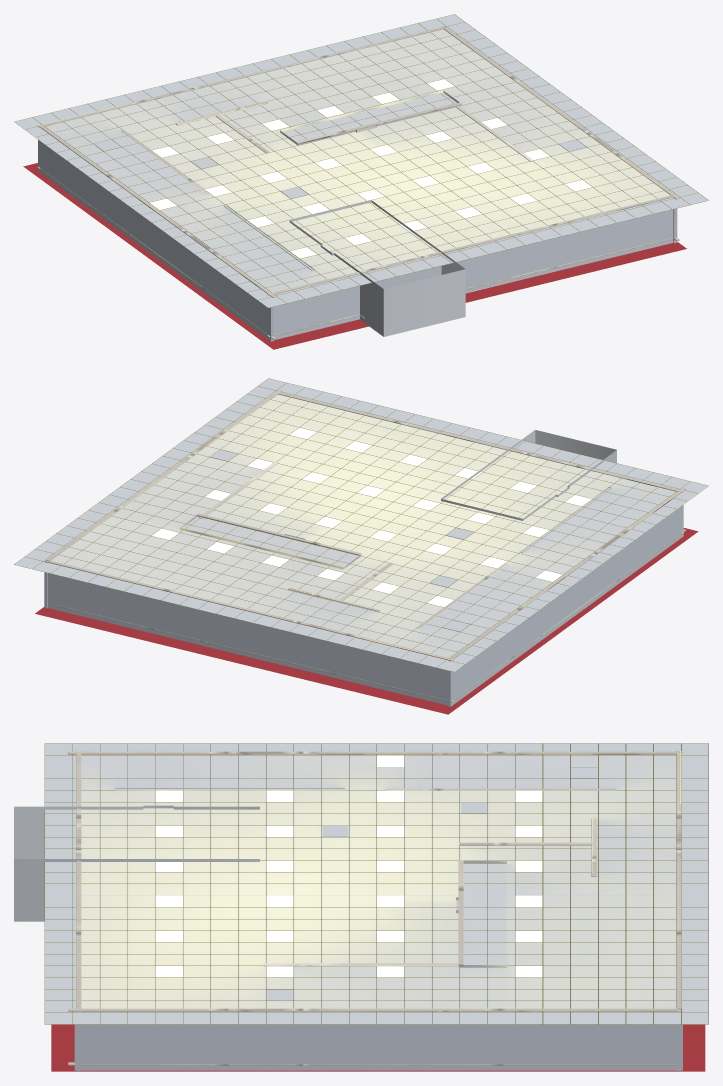
3 renders of one model, top to bottom at view 1: azimuth 30°, elevation 25°; view 2: azimuth 150°, elevation 25°; view 3: azimuth 270°, elevation 25°, orthographic. The views are drawn at different scales.
Parts seen in each view (by area): view 1: Ceiling_6_18_31, BackWall_Double_BR.028_3_7_12, Air_Vent.005_5_15_26, Piece1_2_5_9, Carpet_v1.001_4_13_23; view 2: Ceiling_6_18_31, BackWall_Double_BR.028_3_7_12, Air_Vent.005_5_15_26, Carpet_v1.001_4_13_23, Piece1_2_5_9; view 3: Ceiling_6_18_31, BackWall_Double_BR.028_3_7_12, Air_Vent.005_5_15_26, Piece1_2_5_9, Carpet_v1.001_4_13_23.
Boxes of the visible parts, x1,y1,x2,y2 form: Ceiling_6_18_31: [14, 14, 708, 307]; BackWall_Double_BR.028_3_7_12: [37, 26, 679, 341]; Air_Vent.005_5_15_26: [15, 14, 708, 307]; Piece1_2_5_9: [289, 200, 465, 336]; Carpet_v1.001_4_13_23: [23, 163, 686, 349]; Ceiling_6_18_31: [14, 378, 708, 671]; BackWall_Double_BR.028_3_7_12: [44, 389, 686, 706]; Air_Vent.005_5_15_26: [14, 378, 708, 672]; Carpet_v1.001_4_13_23: [35, 528, 698, 714]; Piece1_2_5_9: [441, 430, 616, 520]; Ceiling_6_18_31: [45, 743, 708, 1024]; BackWall_Double_BR.028_3_7_12: [68, 751, 682, 1070]; Air_Vent.005_5_15_26: [44, 743, 708, 1024]; Piece1_2_5_9: [14, 805, 259, 921]; Carpet_v1.001_4_13_23: [51, 1024, 705, 1071].
Size of the model in its own units: 27.36 by 2.87 by 28.62.
Materials: 11 (2 with a texture image).
